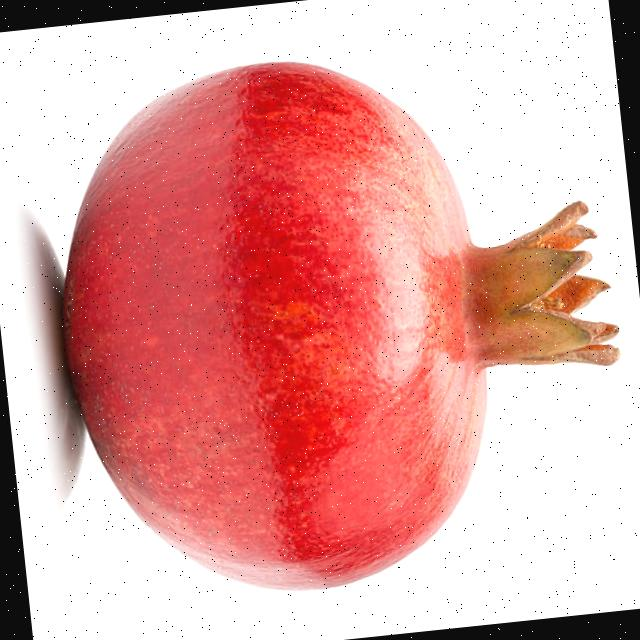Ripe: (33, 21, 640, 618)
